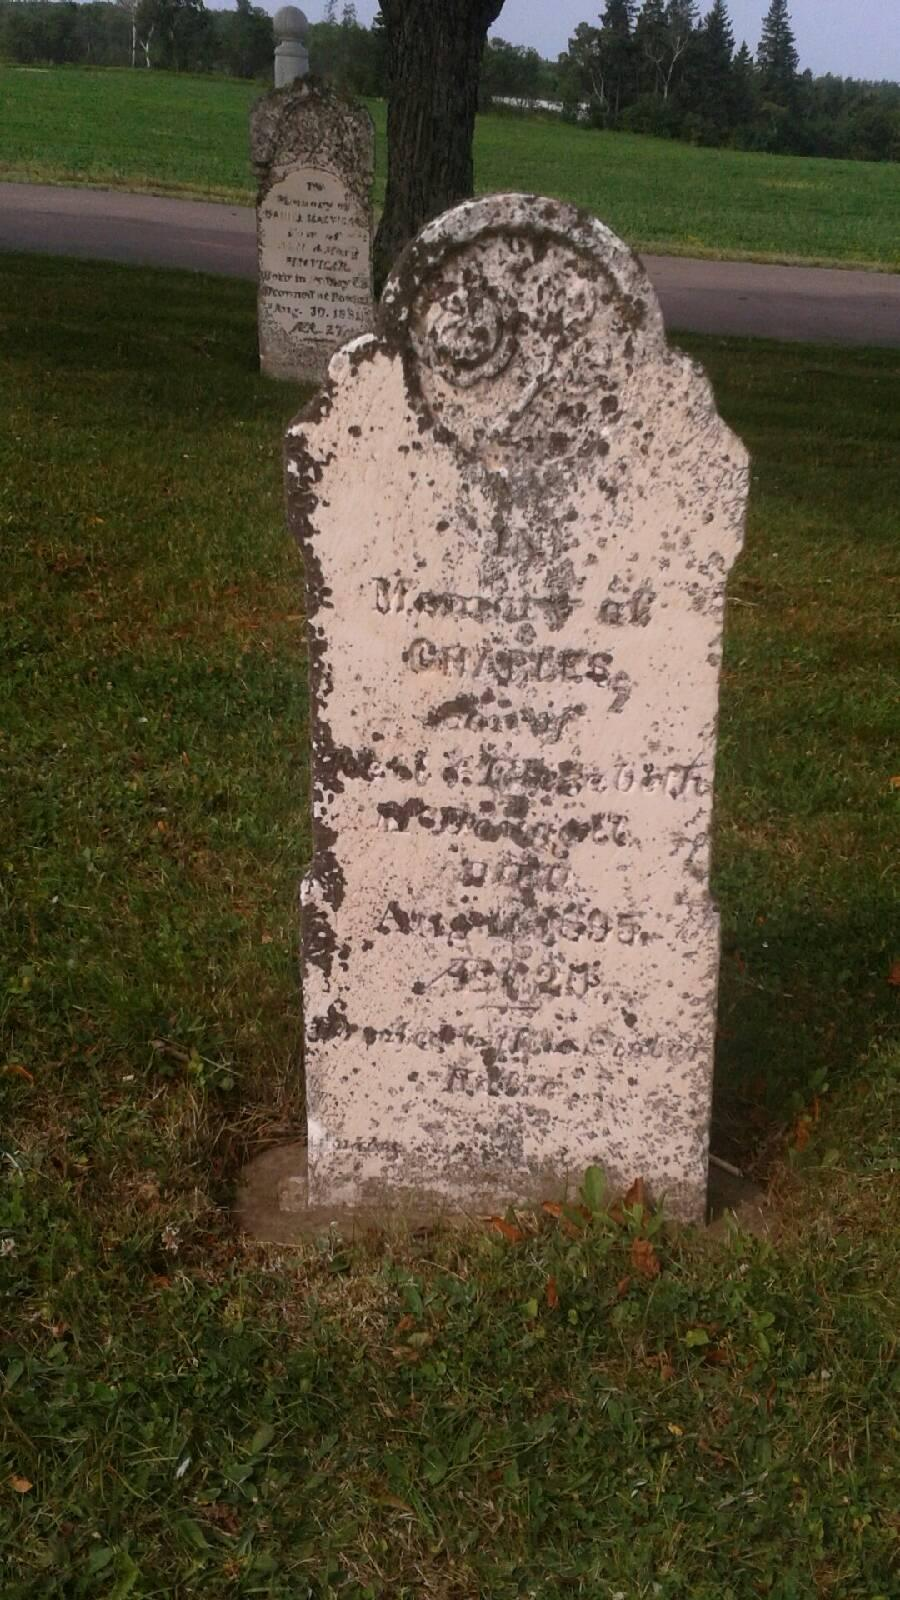upright: (264, 205, 748, 1245)
